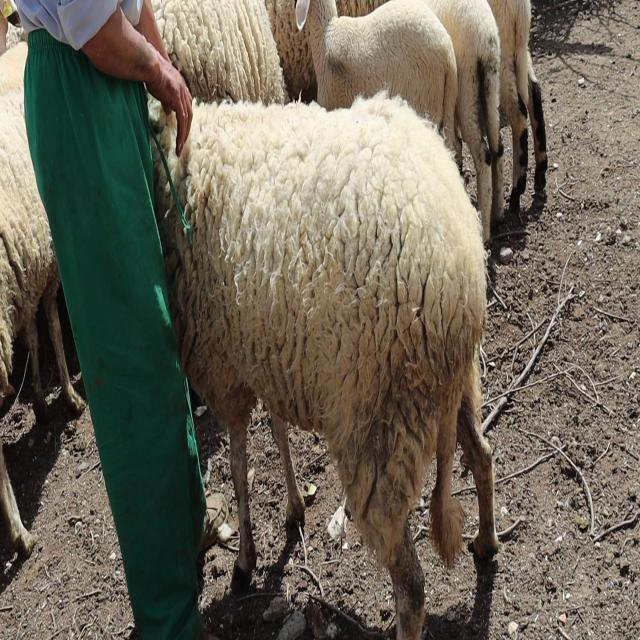Score_5: (148, 92, 498, 639)
